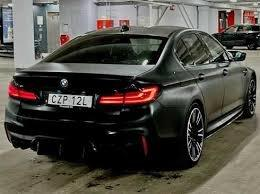license-plates: (48, 94, 92, 108)
